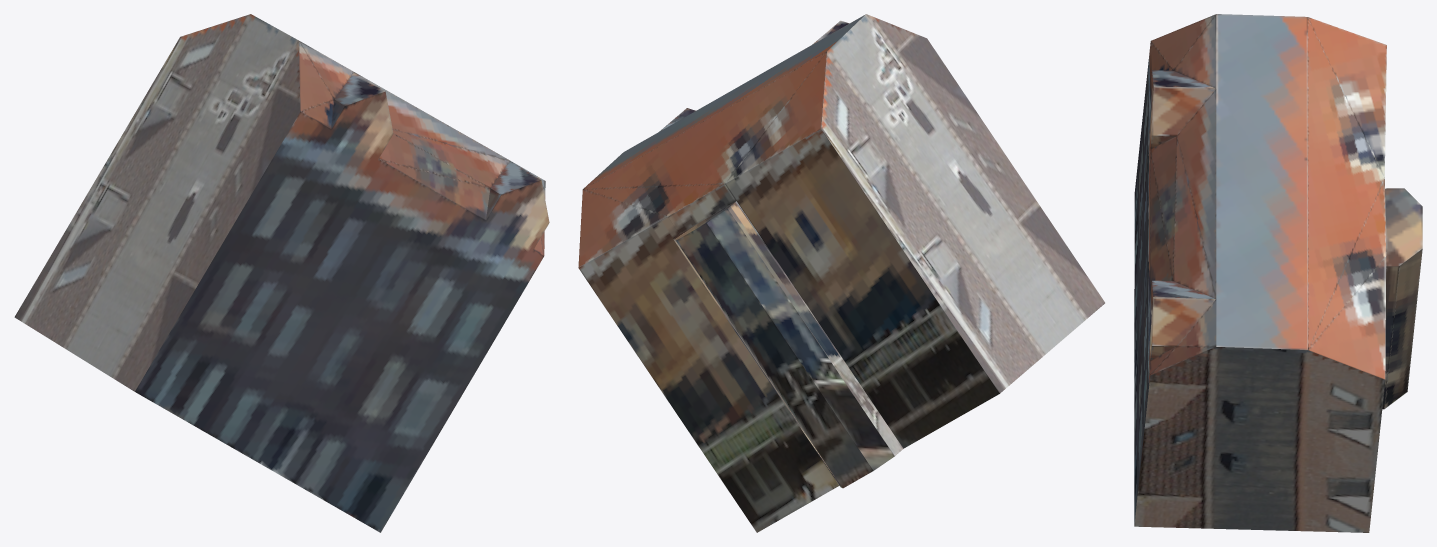
The picture shows the model from 3 angles, left to right: view 1: azimuth 30°, elevation 25°; view 2: azimuth 150°, elevation 25°; view 3: azimuth 270°, elevation 25°; orthographic projection. The views are drawn at different scales.
Parts seen in each view (by area): view 1: BAG_0599100000688740 (×5); view 2: BAG_0599100000688740 (×5); view 3: BAG_0599100000688740 (×5).
Part boxes in pixels (x1,y1,x2,y2): BAG_0599100000688740 (×5): [14, 14, 549, 532]; BAG_0599100000688740 (×5): [578, 14, 1104, 532]; BAG_0599100000688740 (×5): [1134, 14, 1422, 532].
Size of the model in its own units: 17.4 by 17.56 by 9.18.
1 material, 1 textured.
